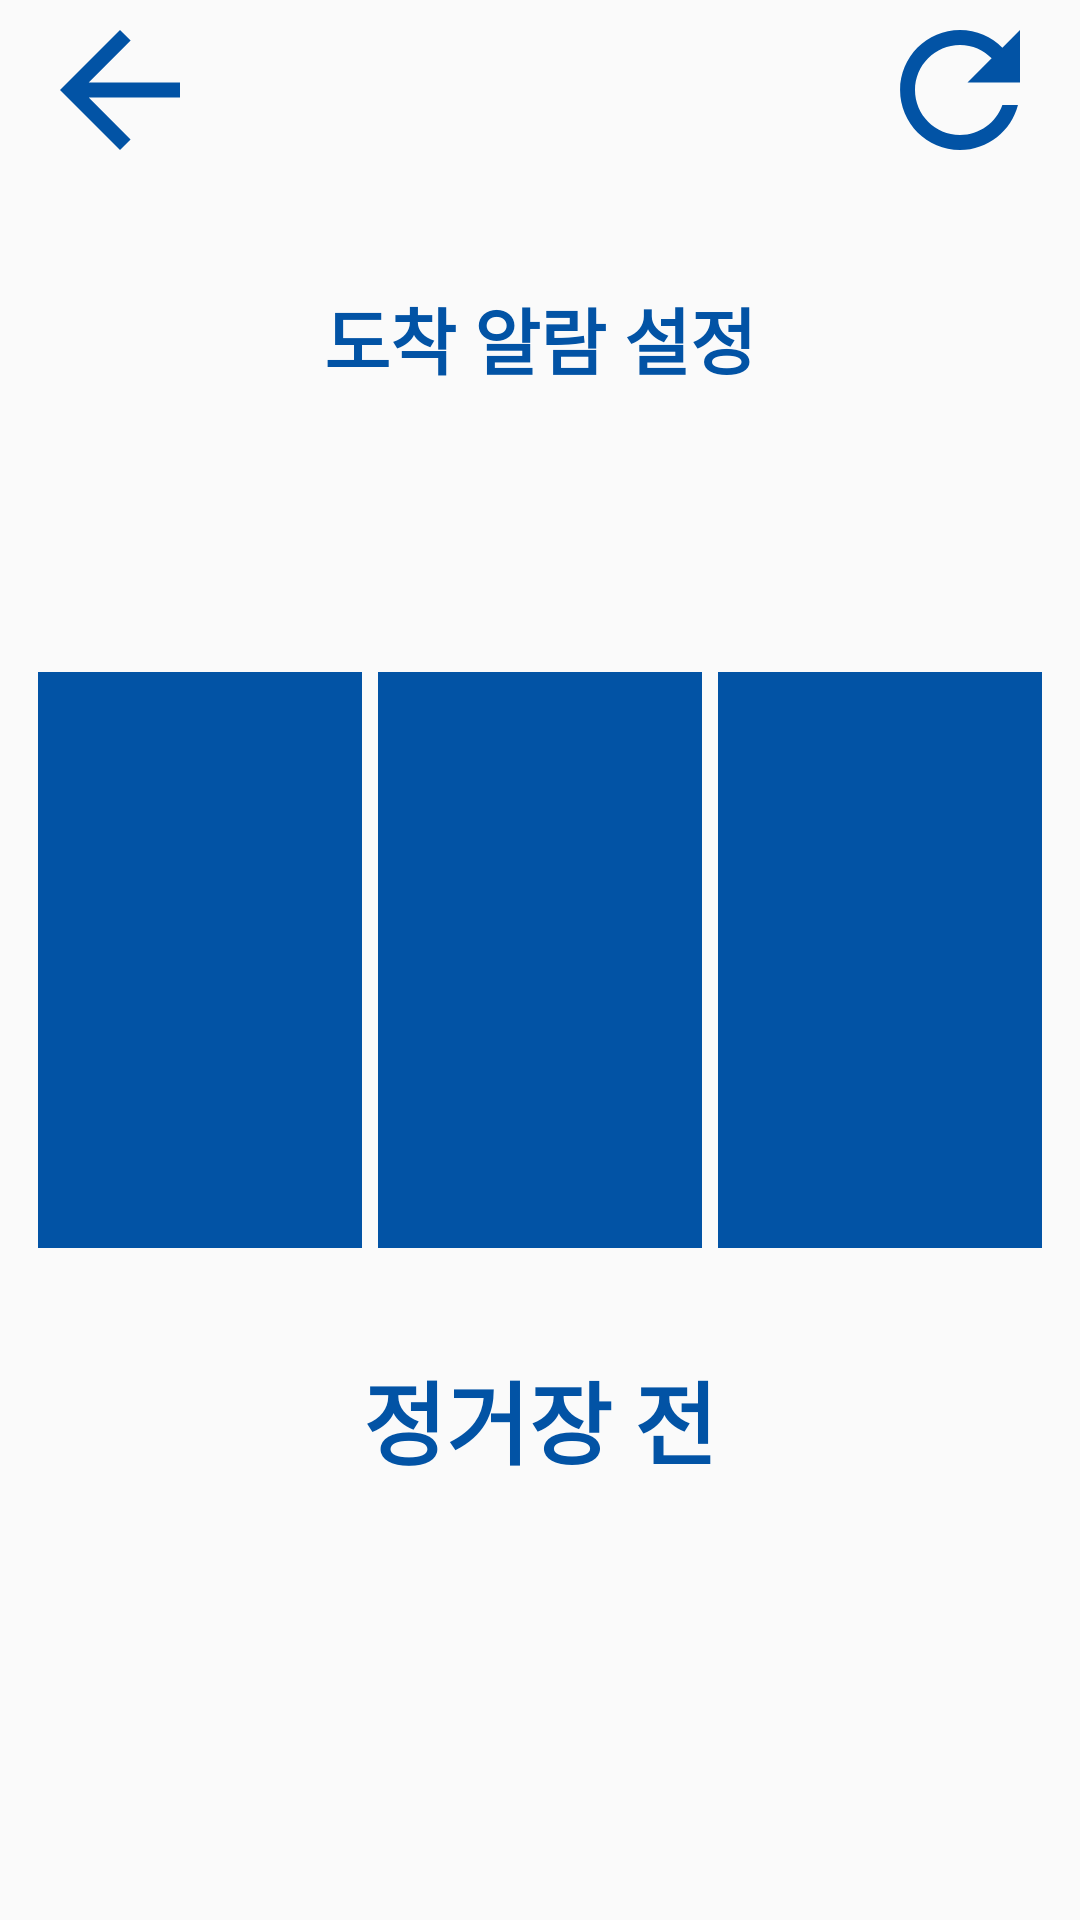

Point at icon controls on the screen. Image size 1080px x 1920px, points as (x,y).
arrow back: (120,90)
refresh: (960,90)
